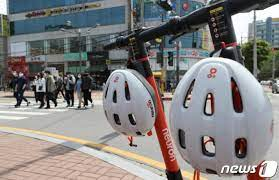kick_handler: (102, 19, 179, 57)
